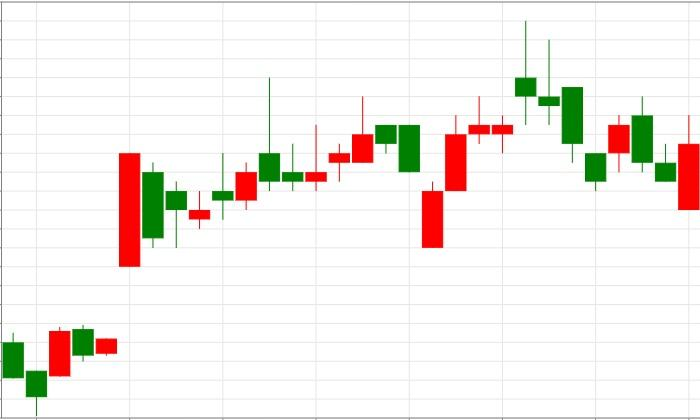shooting_star_fall: (188, 77, 279, 230)
